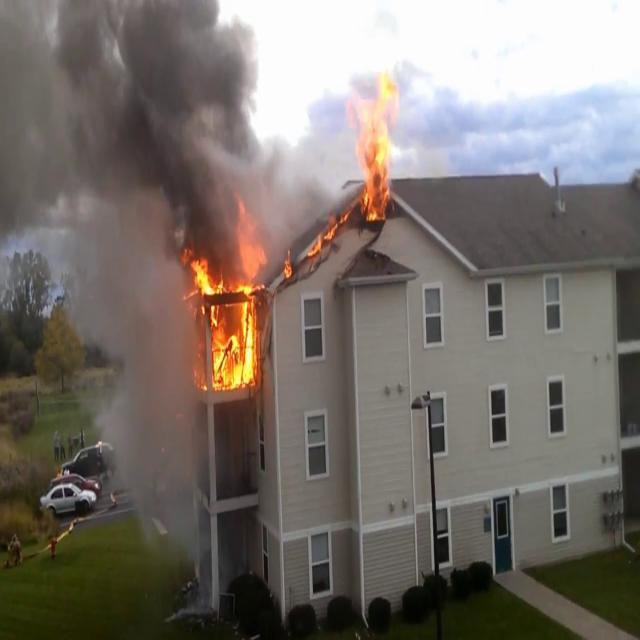Fire: (187, 248, 267, 392), (348, 68, 406, 224)
Smoke: (0, 0, 346, 252), (71, 179, 211, 552)
